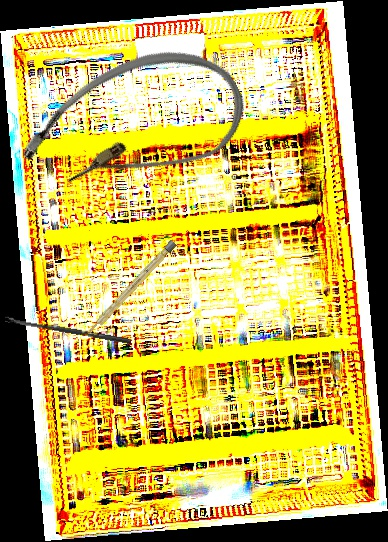Cannula: (6, 21, 261, 233)
Scalpel Handle: (85, 239, 178, 337)
Surgical Spoon: (4, 315, 132, 345)
